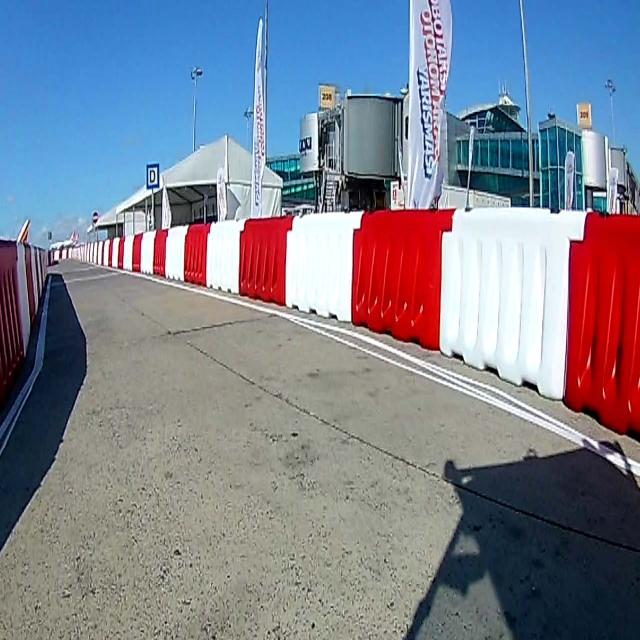durak: (146, 163, 160, 190)
girisyok: (92, 211, 98, 225)
